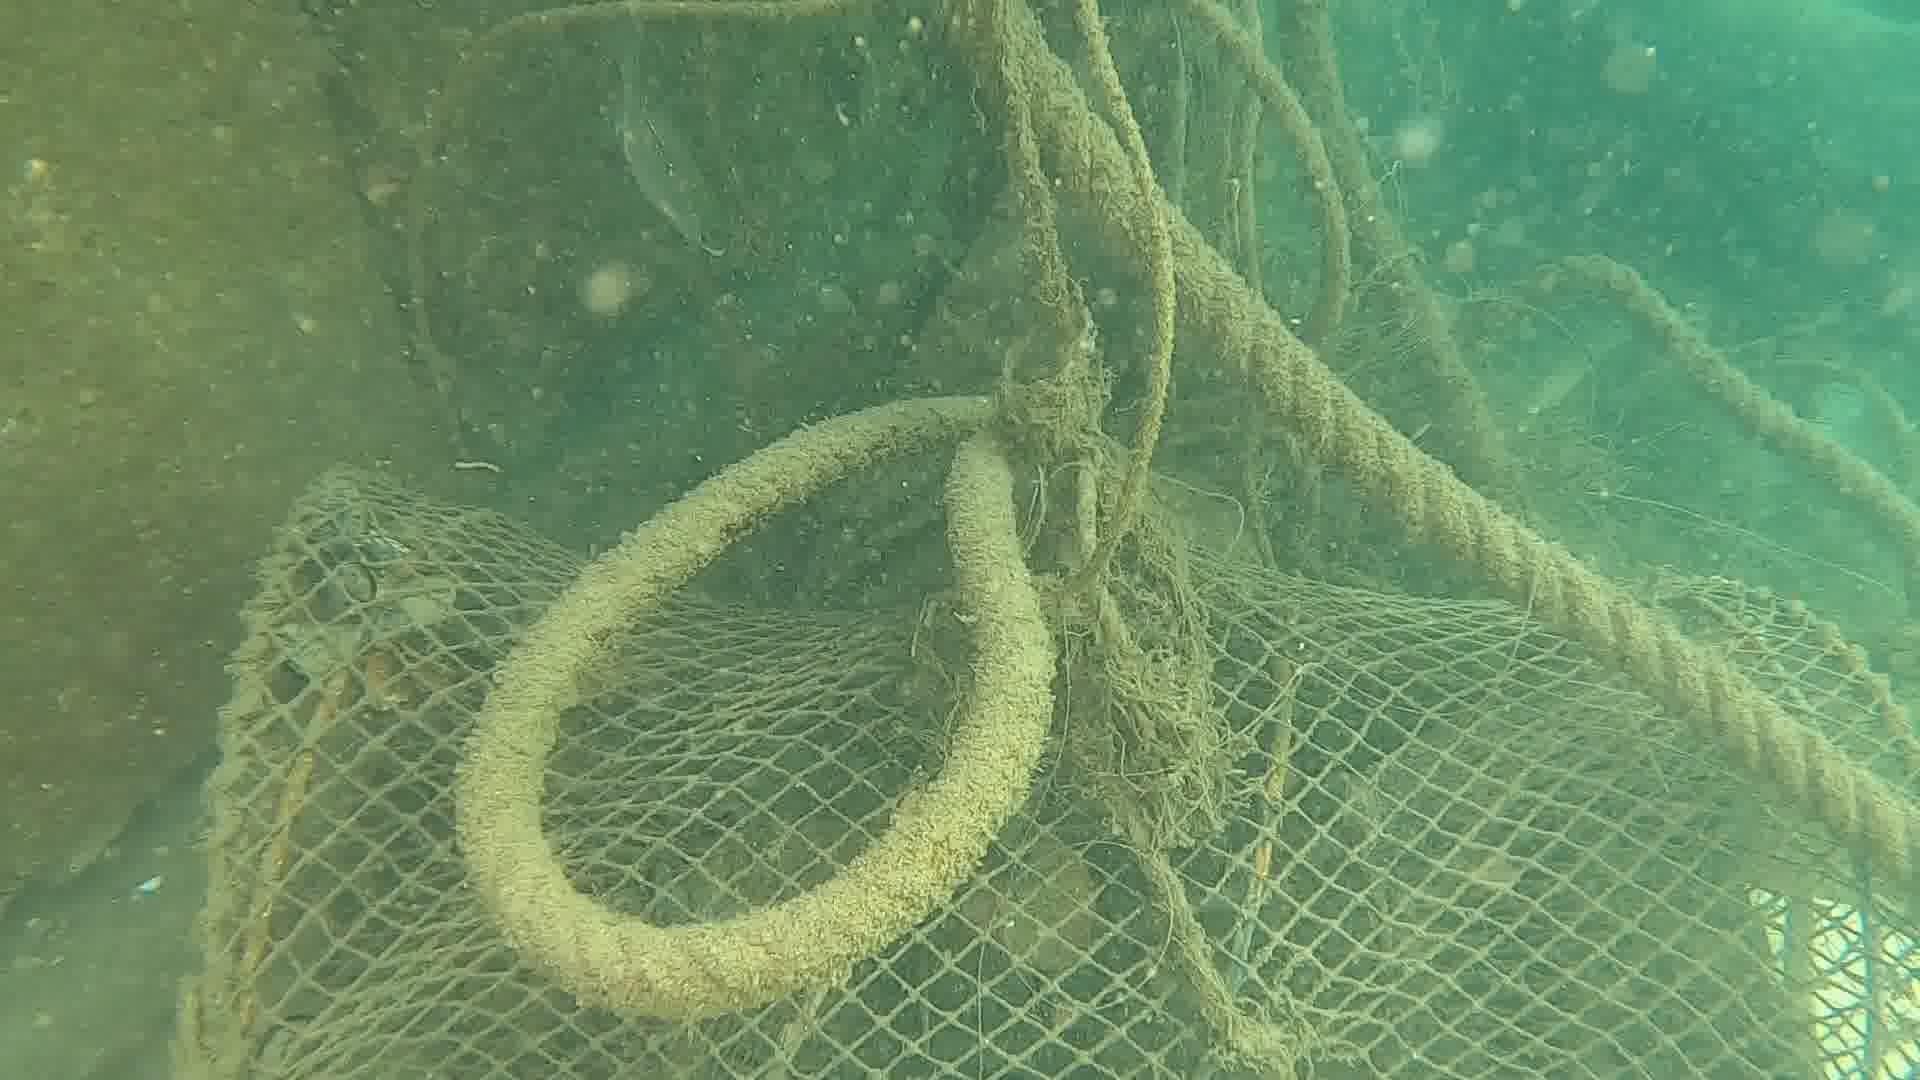bundle of ropes: (1026, 0, 1920, 901)
rope: (452, 389, 1054, 1019)
spring fish trap: (164, 459, 1920, 1080)
